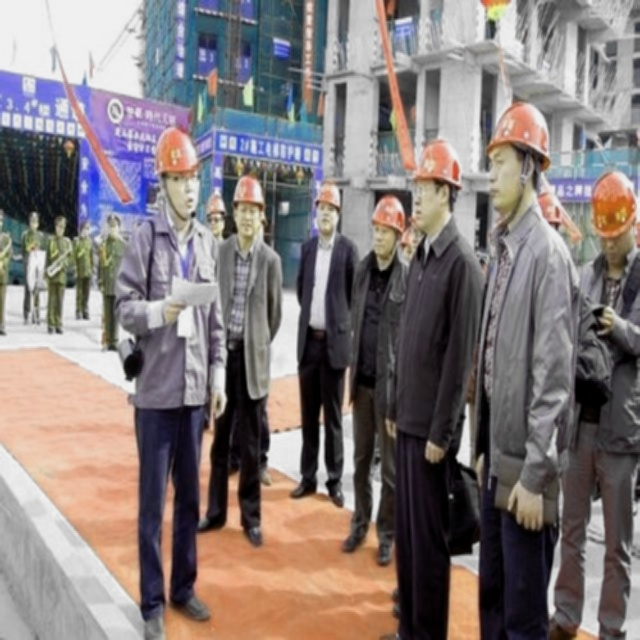Con_Casco: (490, 101, 545, 210), (157, 124, 198, 217), (235, 171, 264, 241)
Sin_Chaleco: (402, 237, 475, 436)
